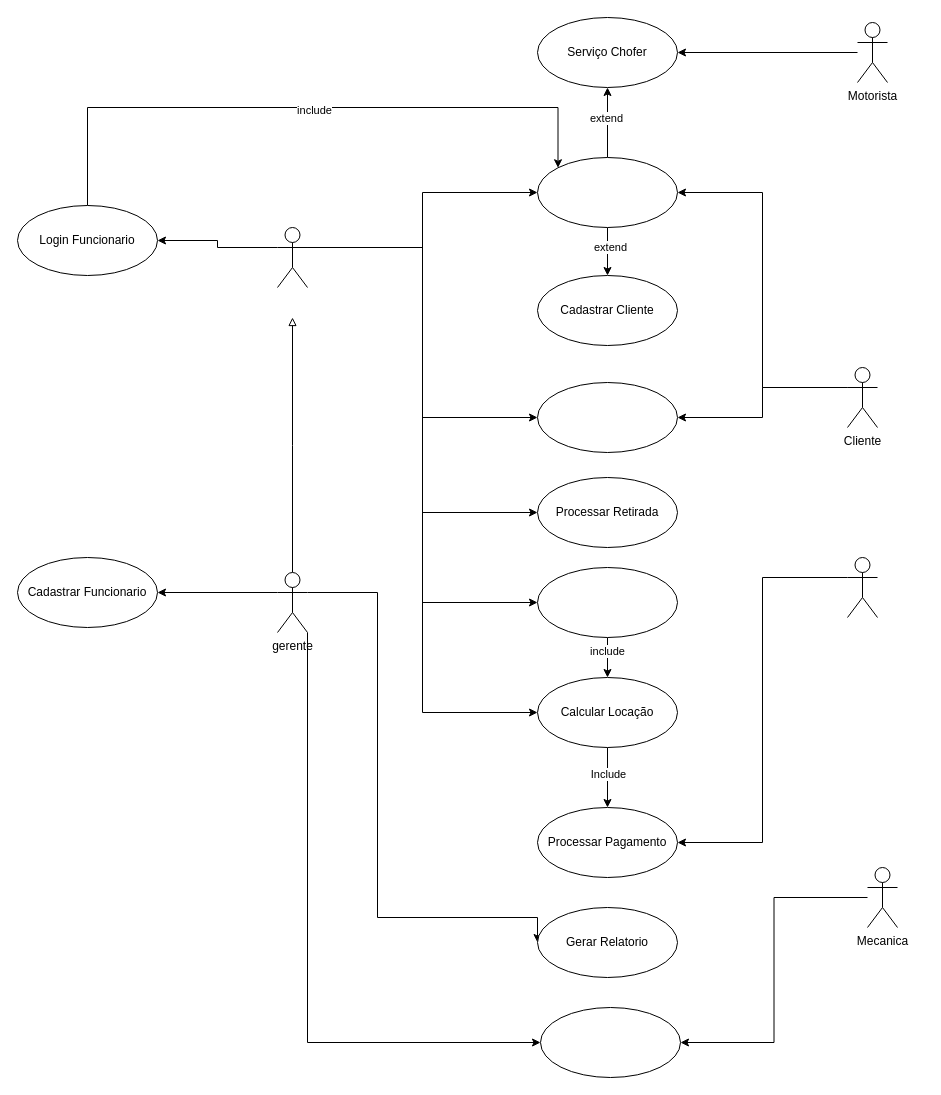
Image size: 941x1095. Some labels were removed from this diagram. Each missing label, with the centre of its shape:
Atendente: pixel 292 257
Consultar Veiculo: pixel 607 417
Manutencao: pixel 610 1042
Processar Devolução: pixel 607 602
Realizar Reserva: pixel 607 192
Sistema de pagamento: pixel 862 587
